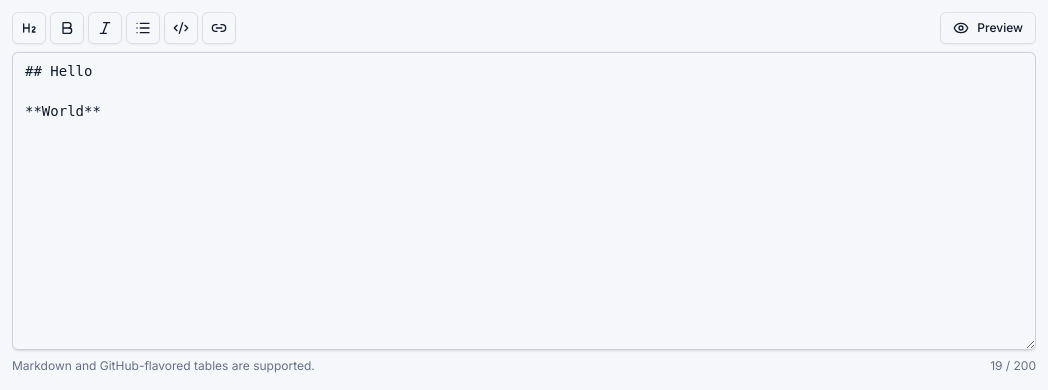
MarkdownEditor › renders formatted Markdown in preview mode
Click the button "Preview".
click(988, 28)  # box x1=940 y1=12 x2=1036 y2=44
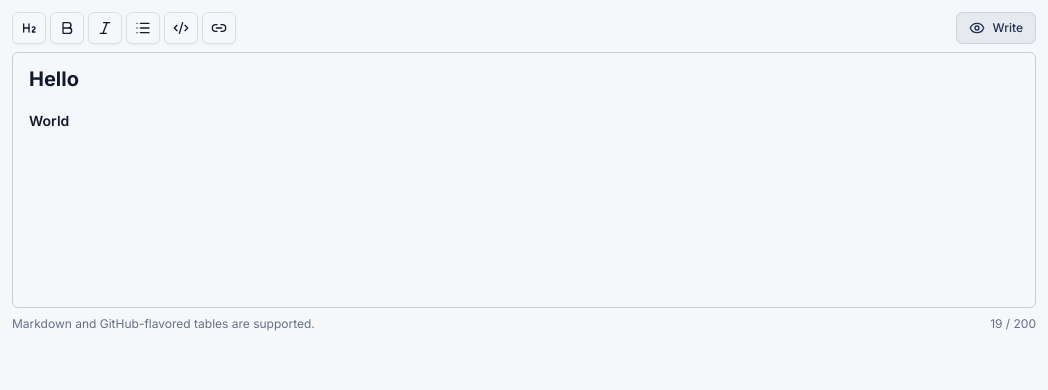
Check: the element with test id "markdown-preview" shows "Hello", box x1=29 y1=67 x2=79 y2=91
Check: the text "World" is shown, box x1=29 y1=112 x2=69 y2=129
Check: the text box with test id "markdown-input" is gone
